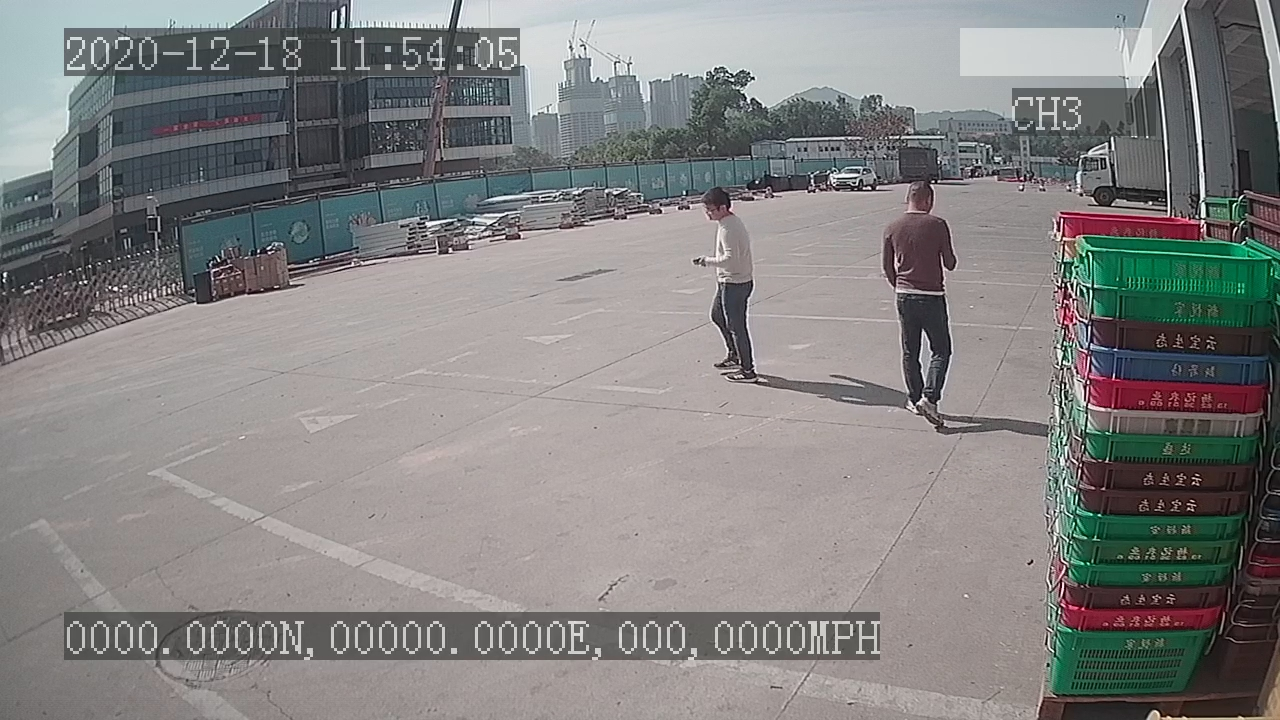person: (868, 177, 970, 438), (688, 185, 768, 385)
